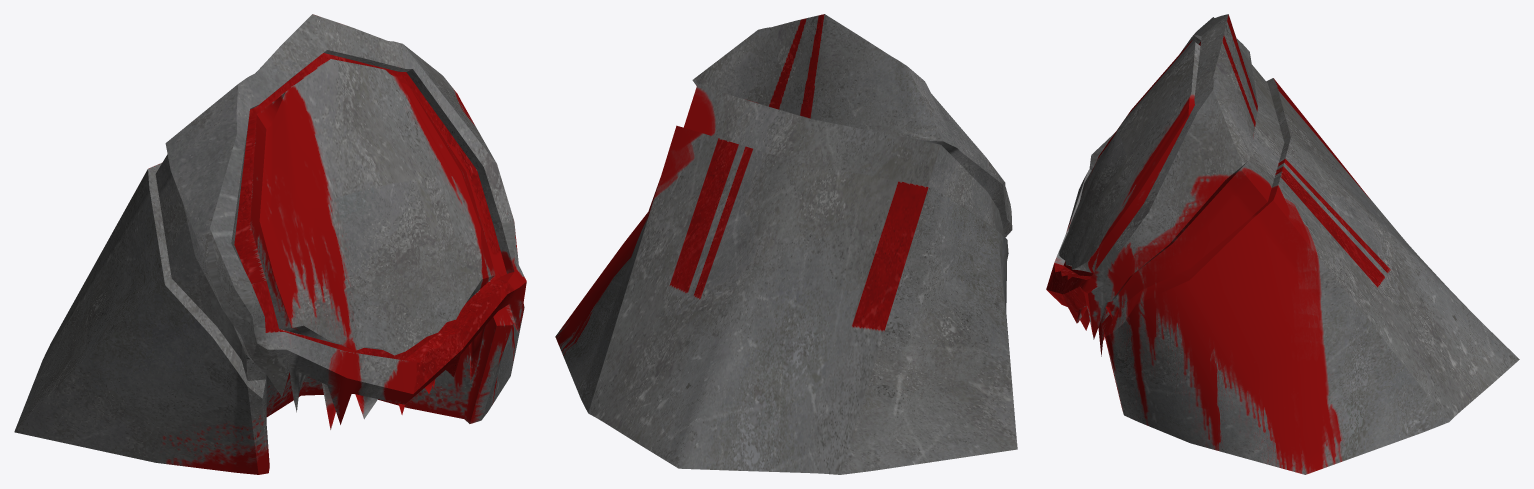
File: ChaosZooCave.fbx
The picture shows the model from 3 angles, left to right: view 1: azimuth 30°, elevation 25°; view 2: azimuth 150°, elevation 25°; view 3: azimuth 270°, elevation 25°; orthographic projection. The views are drawn at different scales.
Visible parts, largest first — view 1: pCube7; view 2: pCube7; view 3: pCube7.
Boxes of the visible parts, x1,y1,x2,y2 form: pCube7: [14, 14, 526, 474]; pCube7: [555, 14, 1017, 474]; pCube7: [1046, 14, 1519, 474].
Size of the model in its own units: 76.09 by 55.73 by 67.86.
